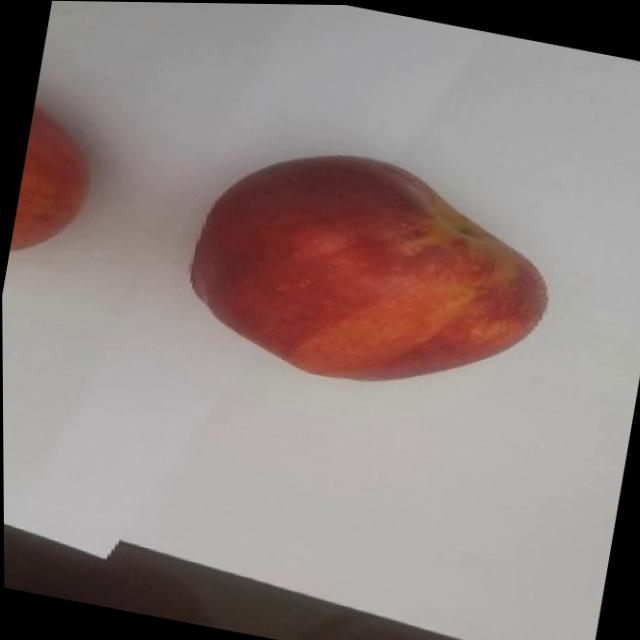Apple: (175, 127, 567, 417), (9, 107, 102, 265)
